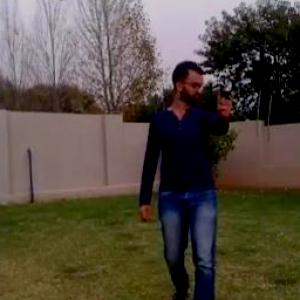takeoff-hand: (214, 81, 244, 125)
